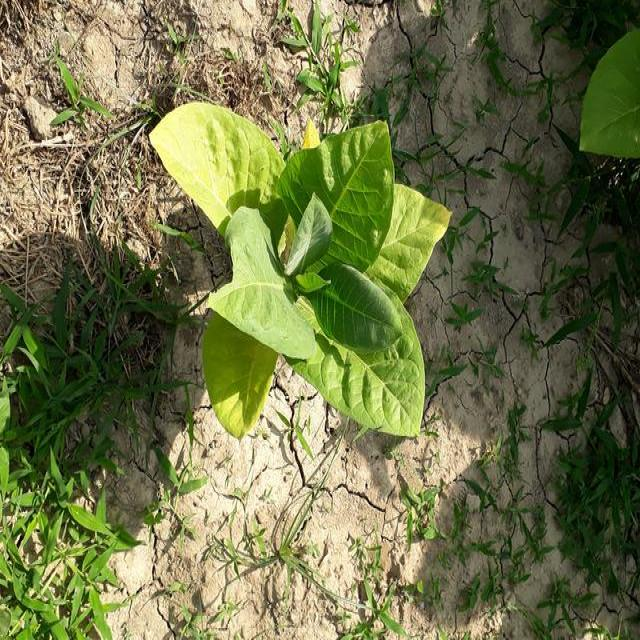crop: (150, 99, 454, 446)
